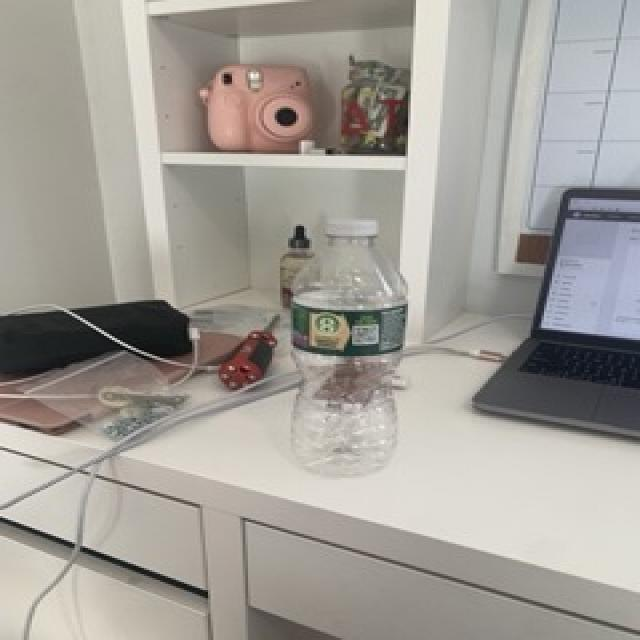water_bottle: (280, 217, 414, 477)
